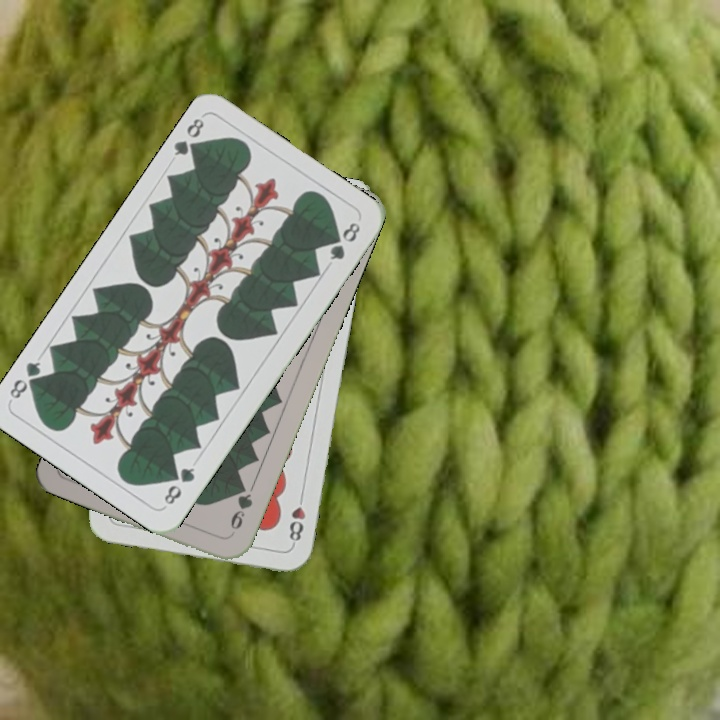G8: (159, 463, 198, 508), (169, 114, 207, 160)
G9: (226, 480, 256, 539)
H8: (285, 489, 308, 548)
